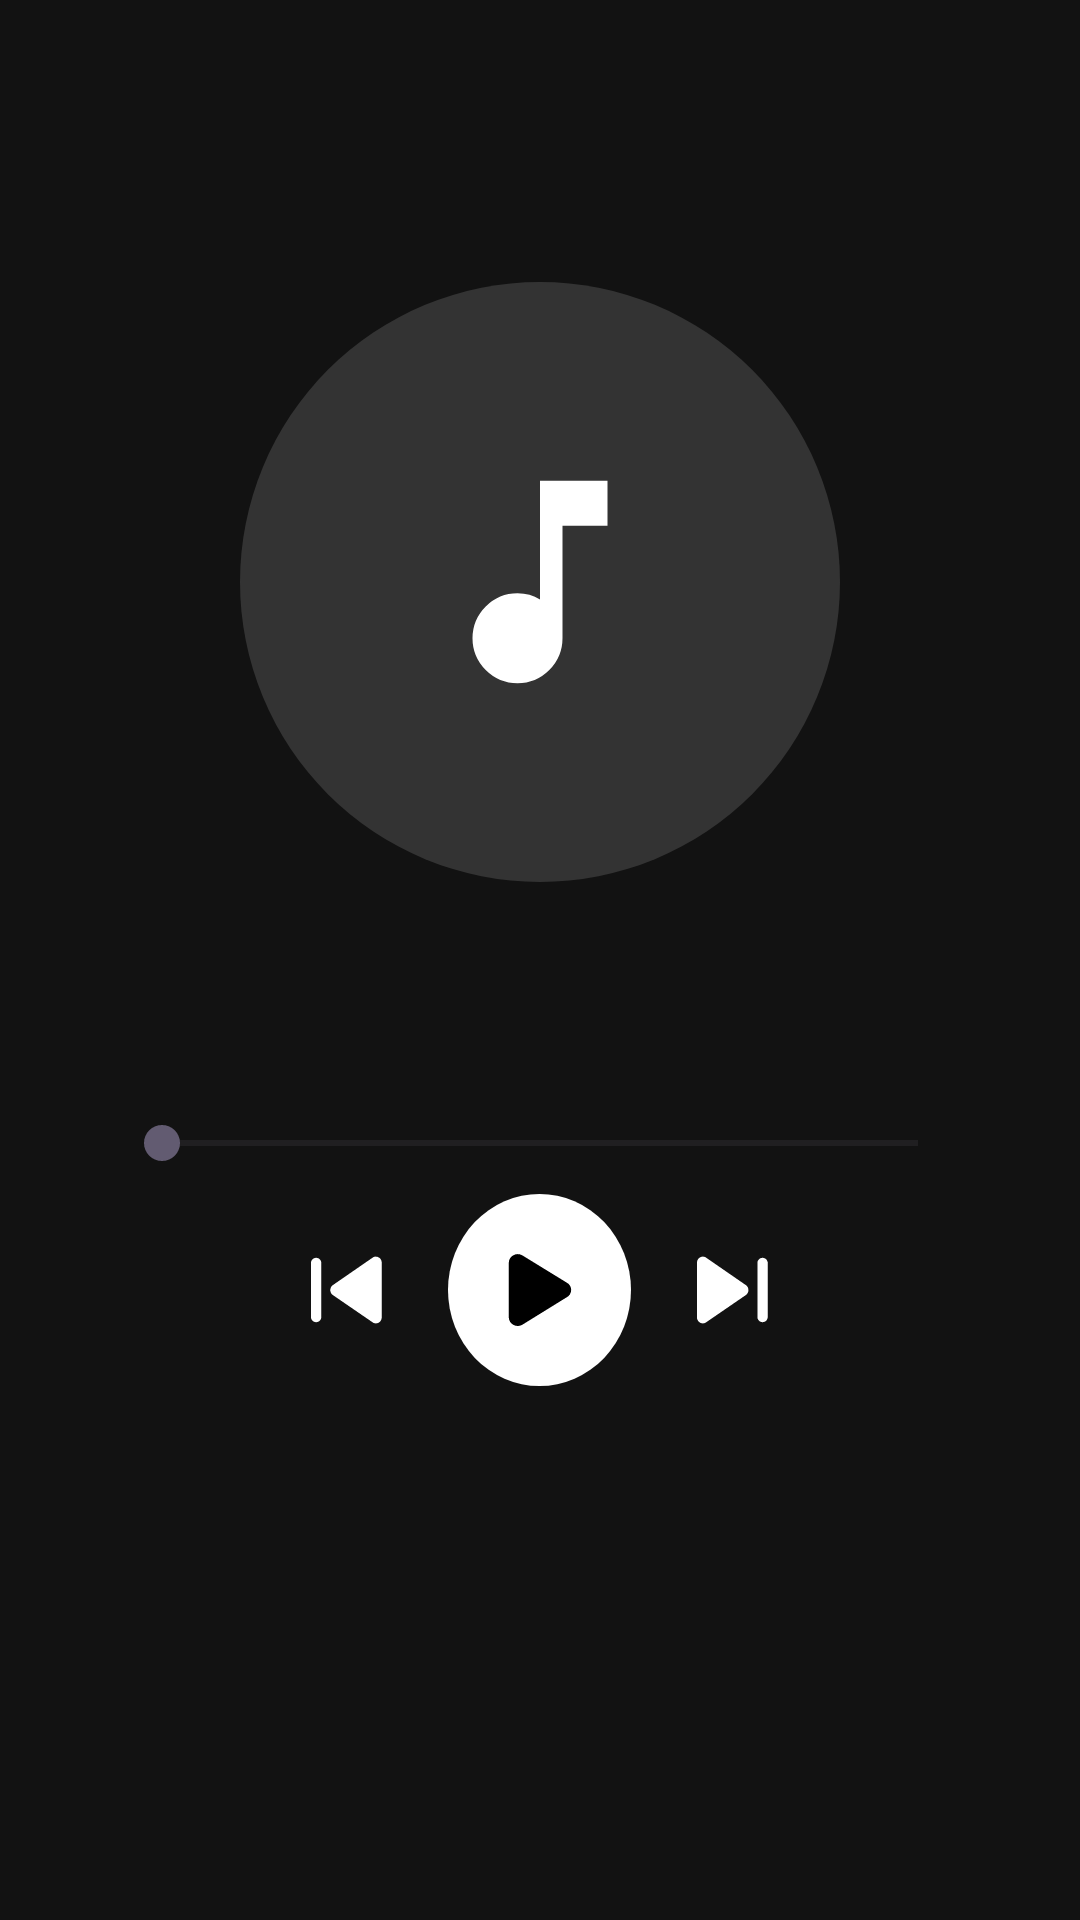

Where icons sit on this 1080×1920 app screen, as box=[x1, y1, x2, y2]:
Next: box=[697, 1256, 768, 1324]
Play/Pause: box=[448, 1194, 631, 1386]
Previous: box=[311, 1256, 382, 1324]
